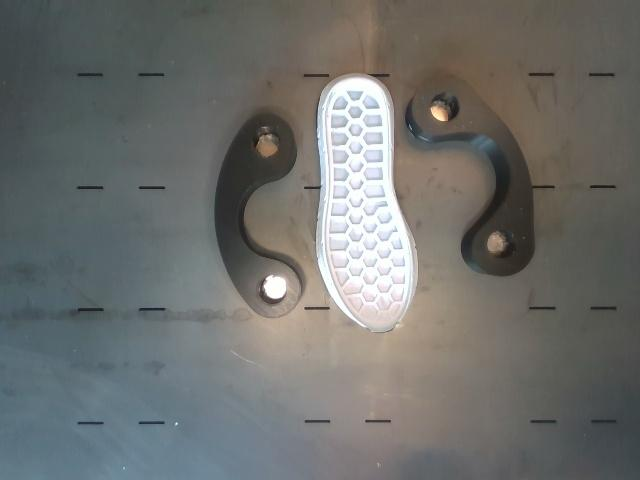shoes: (324, 79, 411, 332)
